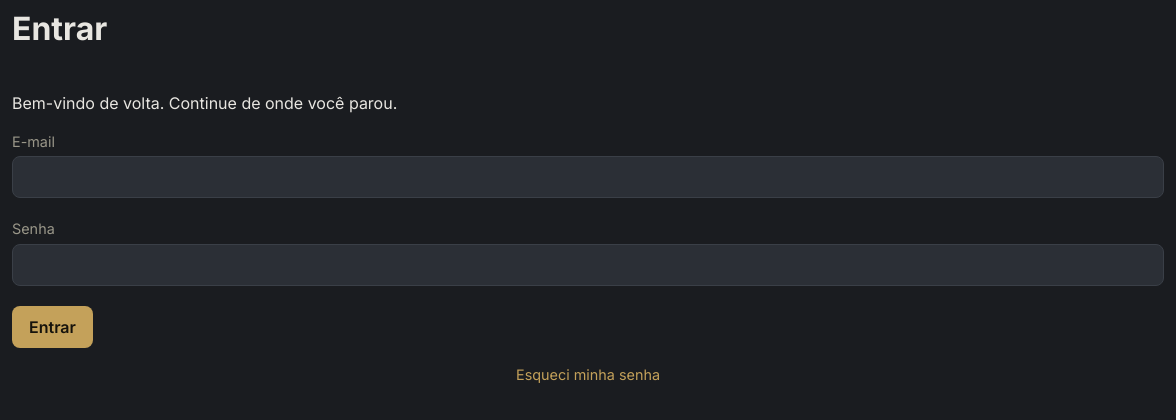
Scenario: LoginPage › credenciais erradas mostram a mensagem da API
Type "a@a.com" into the field labelled "E-mail" at [588, 178], box [12, 156, 1164, 198]
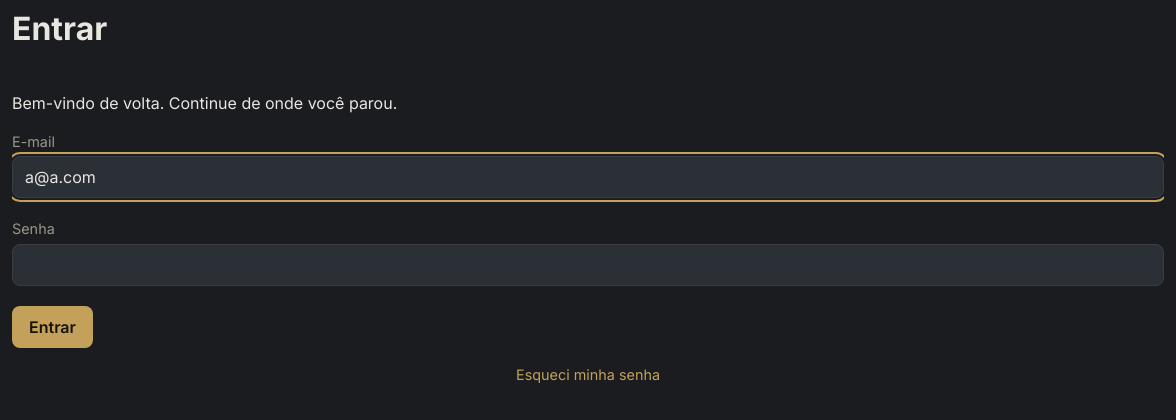
Type "errada" into the password field labelled "Senha" at [588, 265], box [12, 244, 1164, 286]
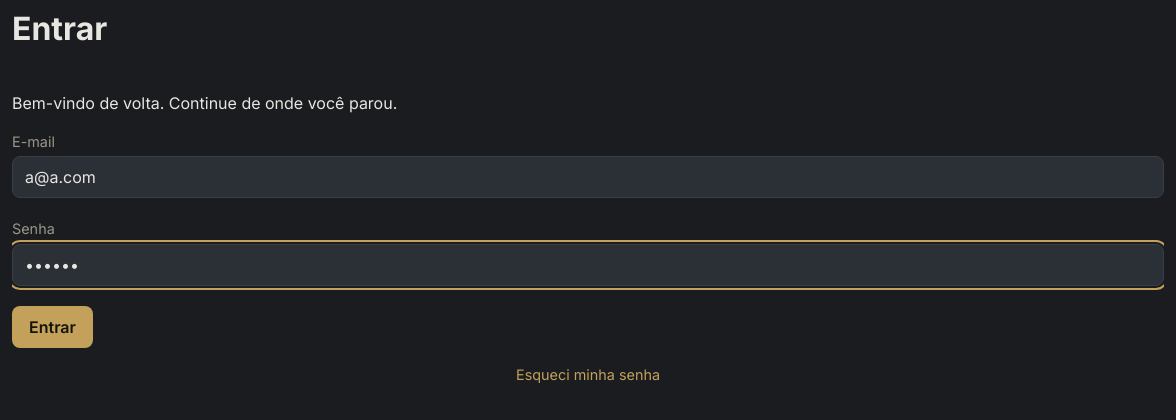
Click the button "Entrar" at [52, 327], box [12, 306, 93, 348]
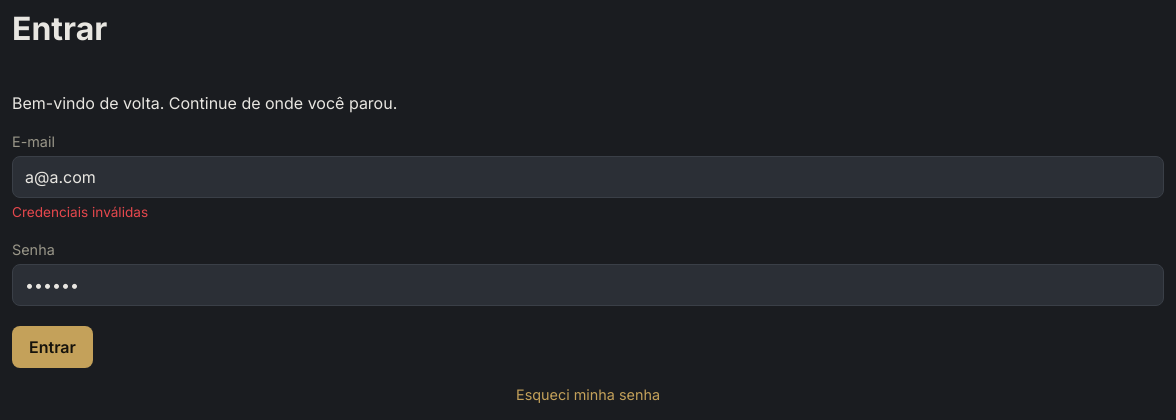
Result: the text "Credenciais inválidas" is shown at [12, 204, 148, 220]
